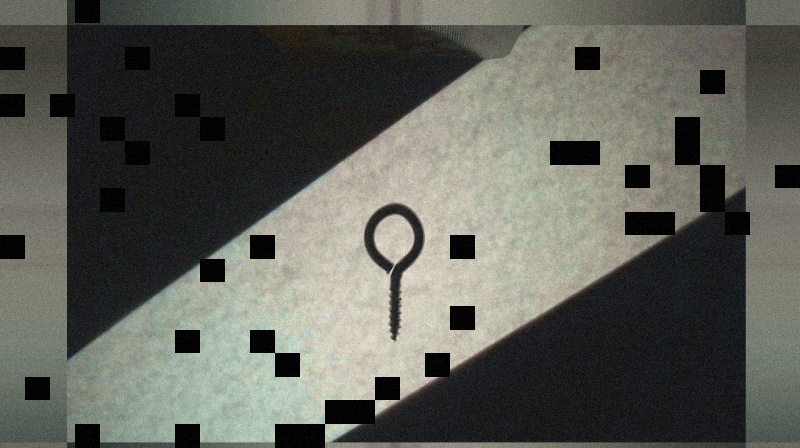O001: (361, 199, 430, 345)
